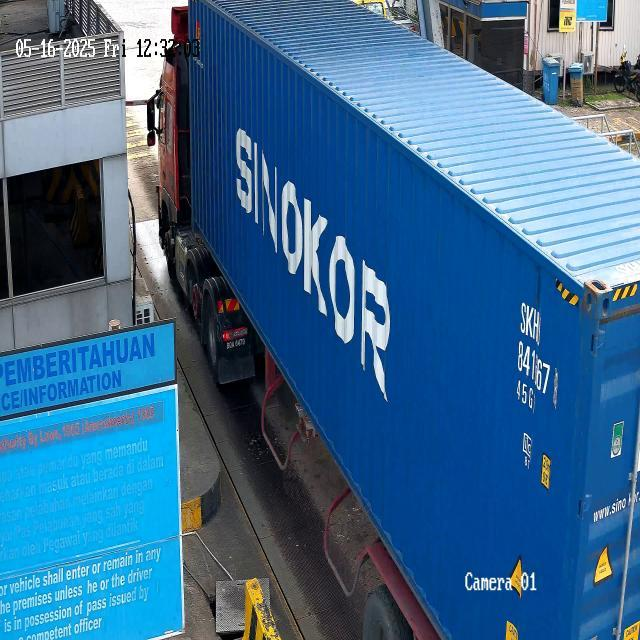ISO: (514, 376, 546, 418)
container_number: (513, 291, 565, 403)
